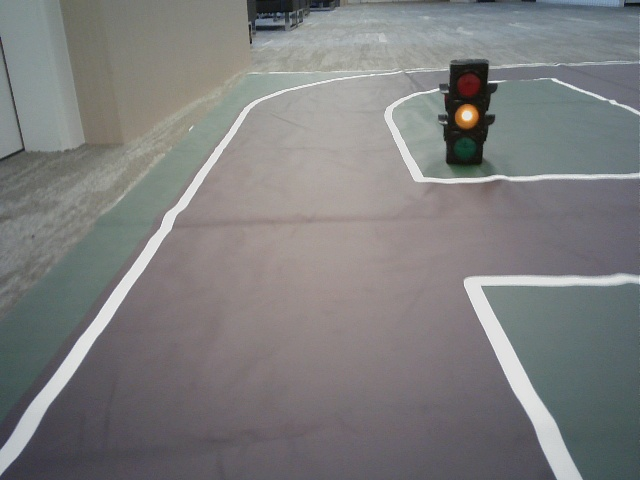yellow: (449, 67, 481, 159)
